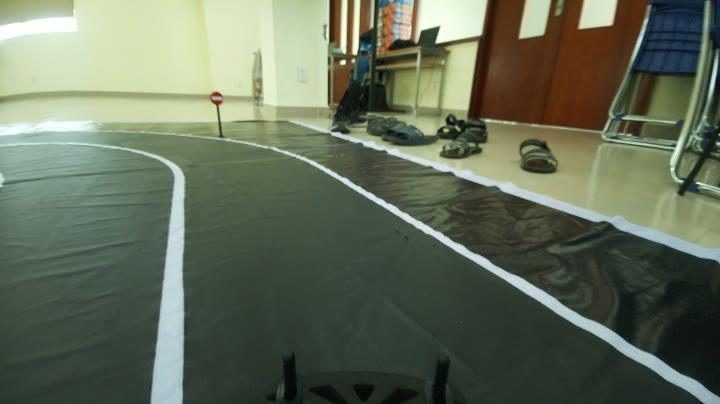no_entry: (203, 88, 227, 110)
